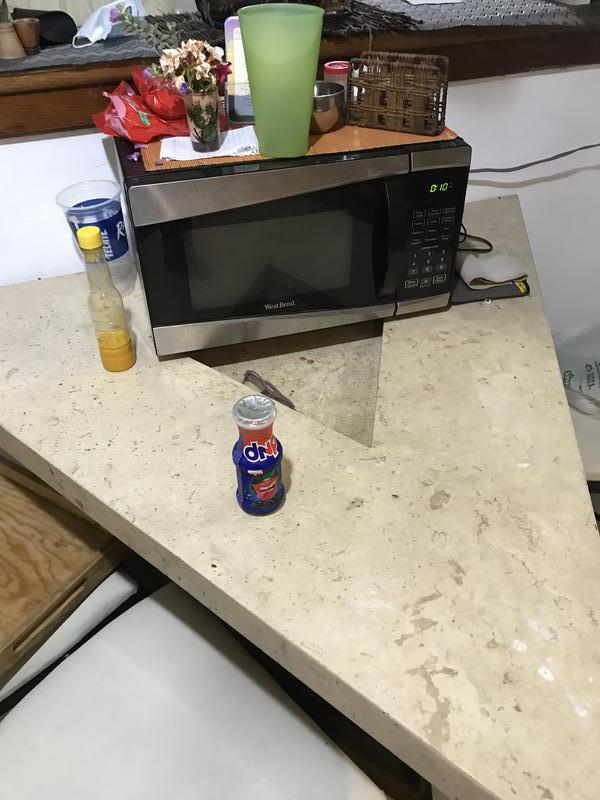danup: (231, 394, 289, 514)
